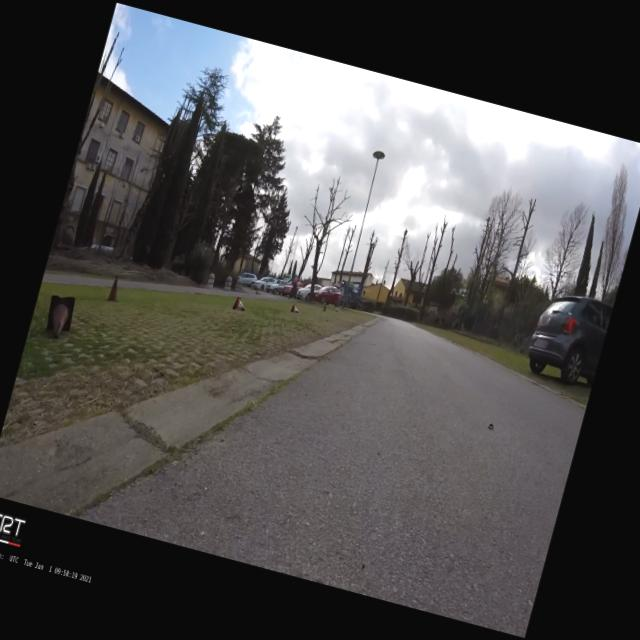orange_cone: (232, 296, 247, 312), (290, 304, 300, 314), (335, 305, 339, 312)
unknown_cone: (41, 292, 78, 342), (105, 274, 124, 304), (322, 304, 327, 312)
